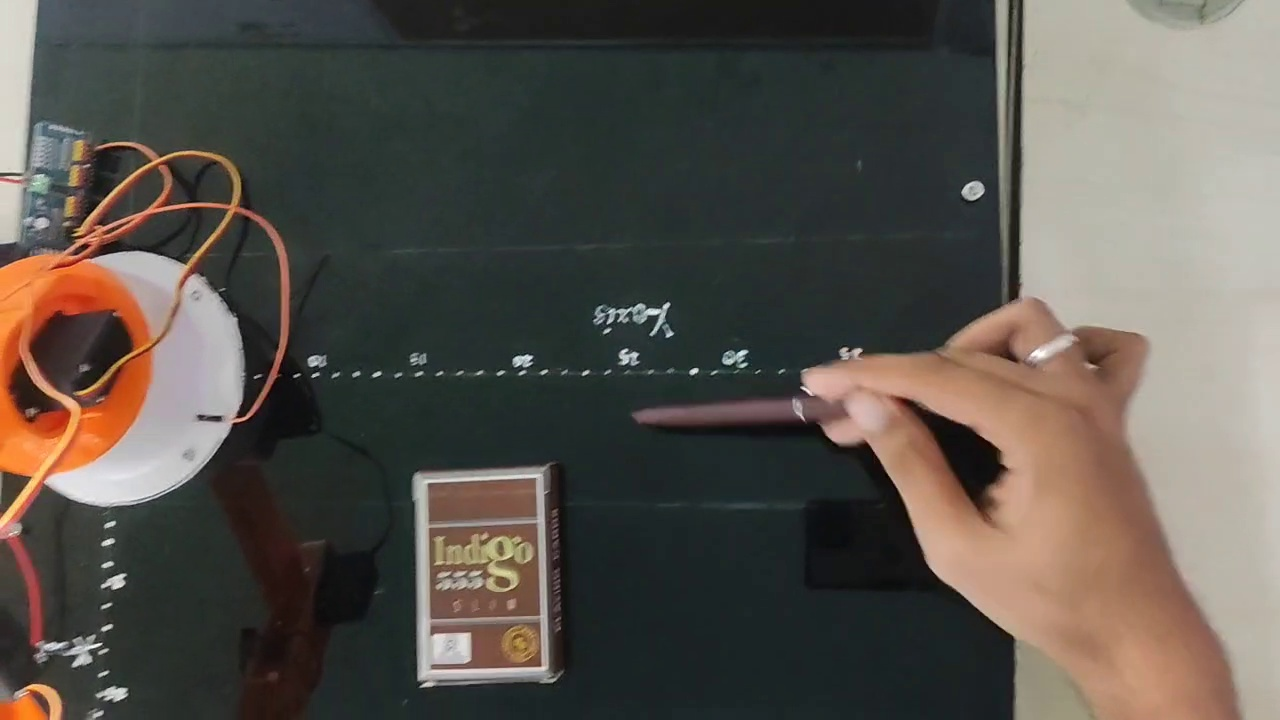BEX: (424, 476, 546, 673)
